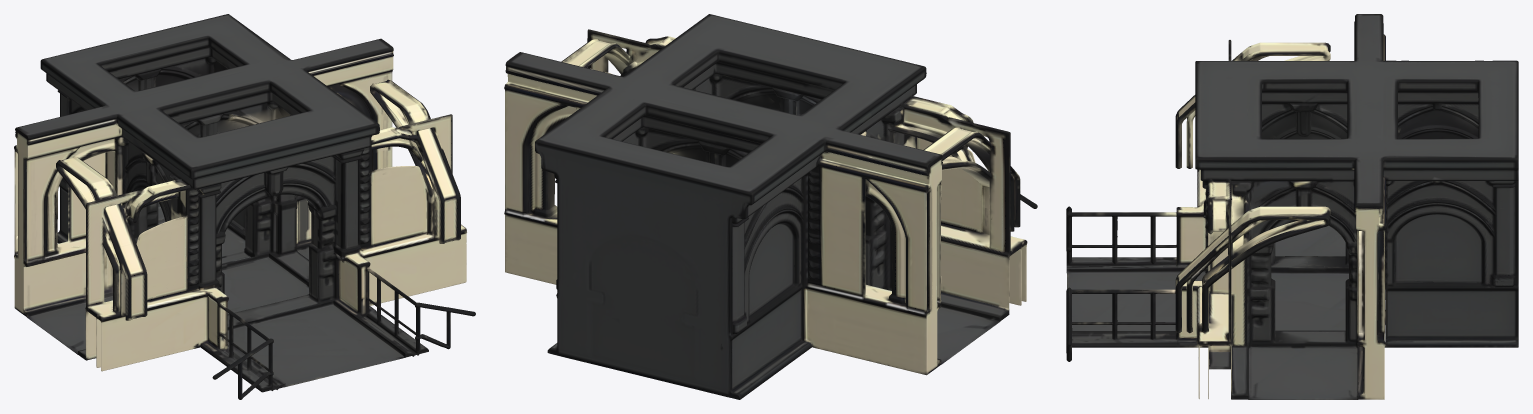
Rendered from benteng_marlborough.glb.
The picture shows the model from 3 angles, left to right: view 1: azimuth 30°, elevation 25°; view 2: azimuth 150°, elevation 25°; view 3: azimuth 270°, elevation 25°; orthographic projection. The views are drawn at different scales.
Visible parts, largest first — view 1: convert; view 2: convert; view 3: convert.
Boxes of the visible parts, x1,y1,x2,y2 form: convert: [14, 14, 475, 399]; convert: [504, 14, 1037, 399]; convert: [1066, 14, 1518, 399].
Bounding box in the file's own units: 0.9445 × 0.4557 × 0.9443.
1 material, 1 textured.
